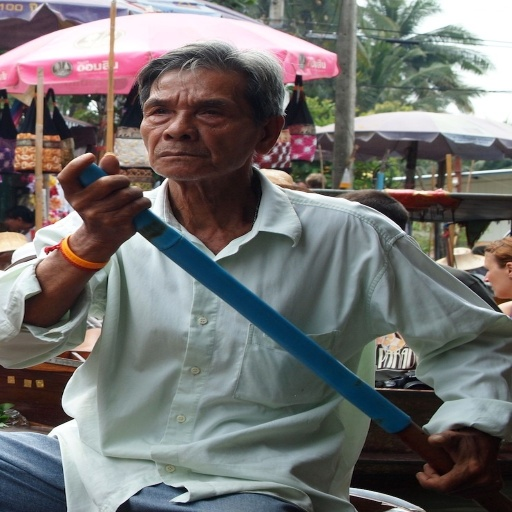hand: (53, 151, 152, 247), (415, 428, 500, 505)
